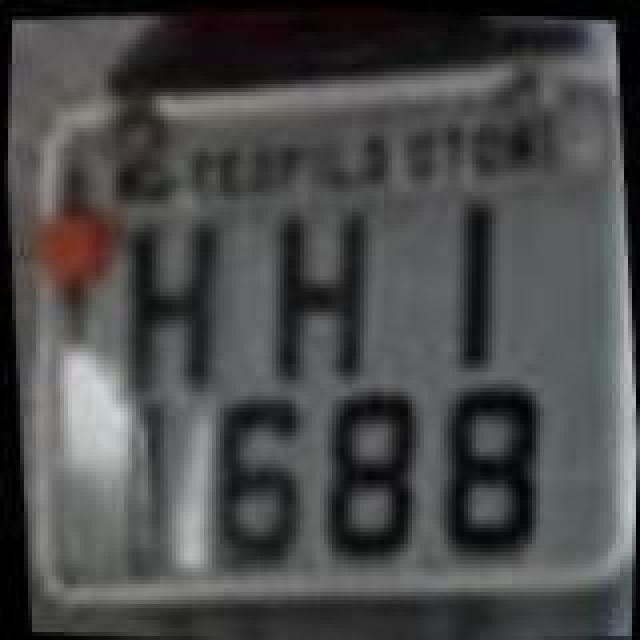1: (440, 186, 508, 366), (120, 402, 180, 566)
6: (200, 388, 316, 576)
8: (430, 376, 554, 560), (310, 378, 430, 562)
H: (260, 192, 384, 392), (106, 208, 230, 400)
